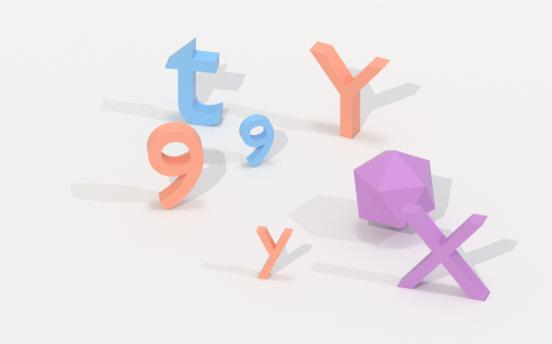9: (145, 123, 207, 213), (235, 113, 277, 166)
Y: (251, 221, 297, 283)
Y-hoa: (305, 40, 402, 140)
dagiac: (343, 150, 443, 232)
t: (162, 39, 231, 128)
x: (397, 201, 491, 304)
